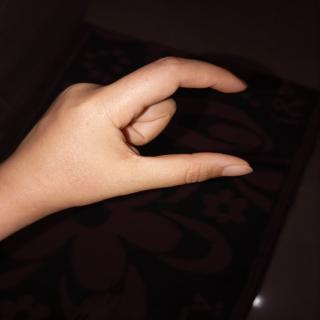DELL: (7, 50, 263, 218)
